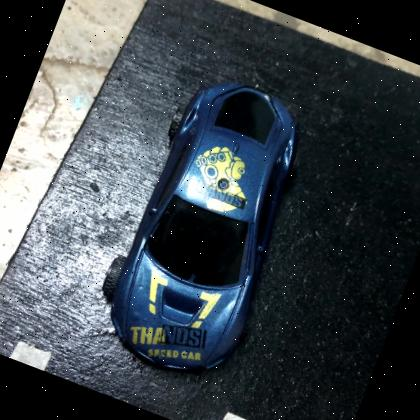Car: (109, 83, 297, 375)
